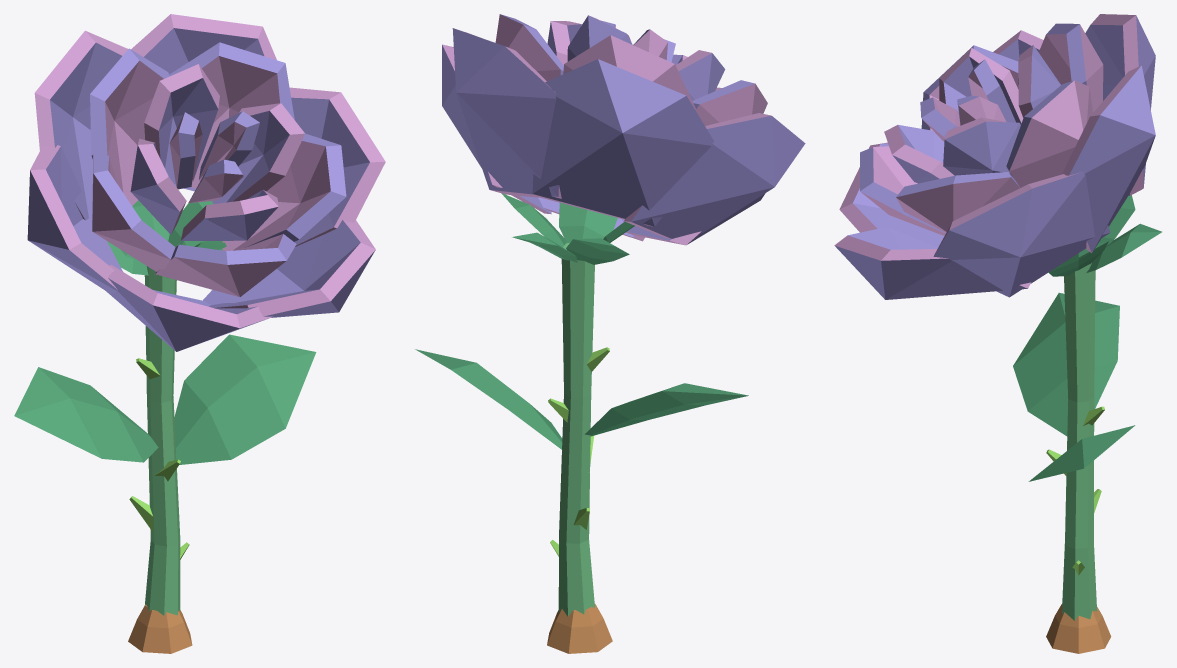
The model's file is 26-crystal-rose.glb.
The picture shows the model from 3 angles, left to right: view 1: azimuth 30°, elevation 25°; view 2: azimuth 150°, elevation 25°; view 3: azimuth 270°, elevation 25°; orthographic projection. The views are drawn at different scales.
Visible parts, largest first — view 1: 26-crystal-rose_Body; view 2: 26-crystal-rose_Body; view 3: 26-crystal-rose_Body.
Boxes of the visible parts, x1=… form: 26-crystal-rose_Body: x1=14, y1=14, x2=385, y2=653; 26-crystal-rose_Body: x1=415, y1=14, x2=805, y2=653; 26-crystal-rose_Body: x1=834, y1=14, x2=1161, y2=653.
Size of the model in its own units: 0.352 by 0.6216 by 0.3071.
1 material, 1 textured.
